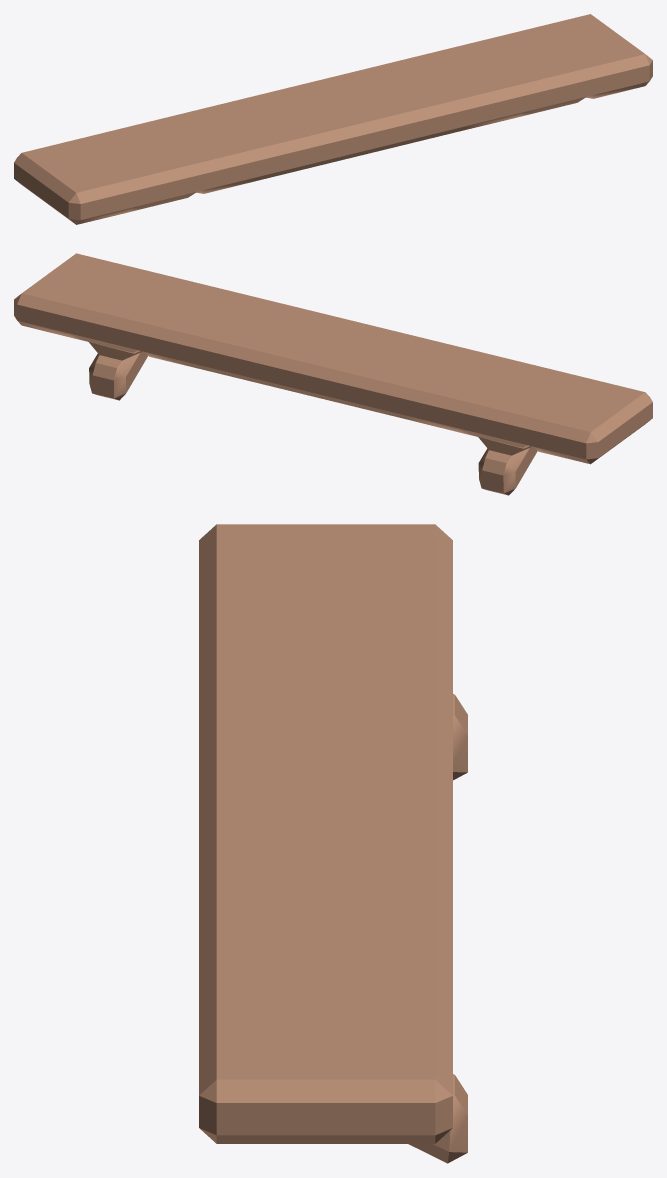
The model's file is WallShelf.fbx.
3 views of the same model, one above another, from view 1: azimuth 30°, elevation 25°; view 2: azimuth 150°, elevation 25°; view 3: azimuth 270°, elevation 25° (orthographic). The views are drawn at different scales.
Parts seen in each view (by area): view 1: pCube41; view 2: pCube41; view 3: pCube41.
Part boxes in pixels (bbox=[...]): pCube41: bbox=[14, 14, 652, 224]; pCube41: bbox=[14, 253, 652, 495]; pCube41: bbox=[199, 524, 467, 1163].
Bounding box in the file's own units: 452 × 59.39 × 90.13.
